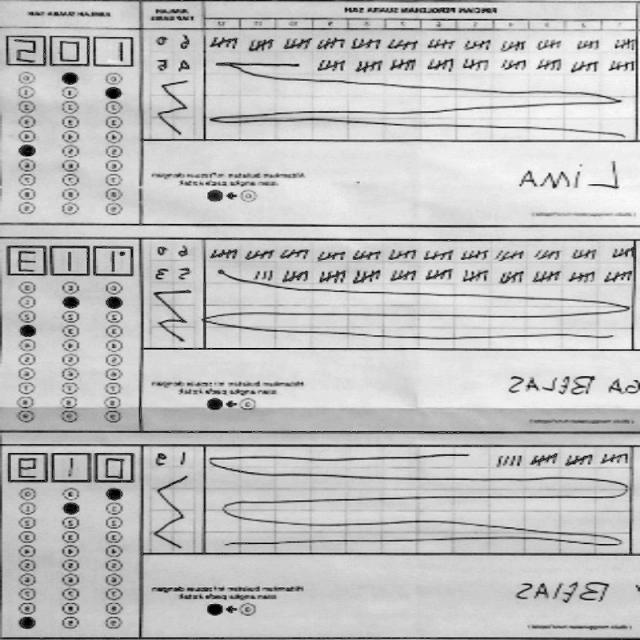Suara: (4, 444, 138, 486), (2, 28, 138, 69), (5, 244, 140, 282)
